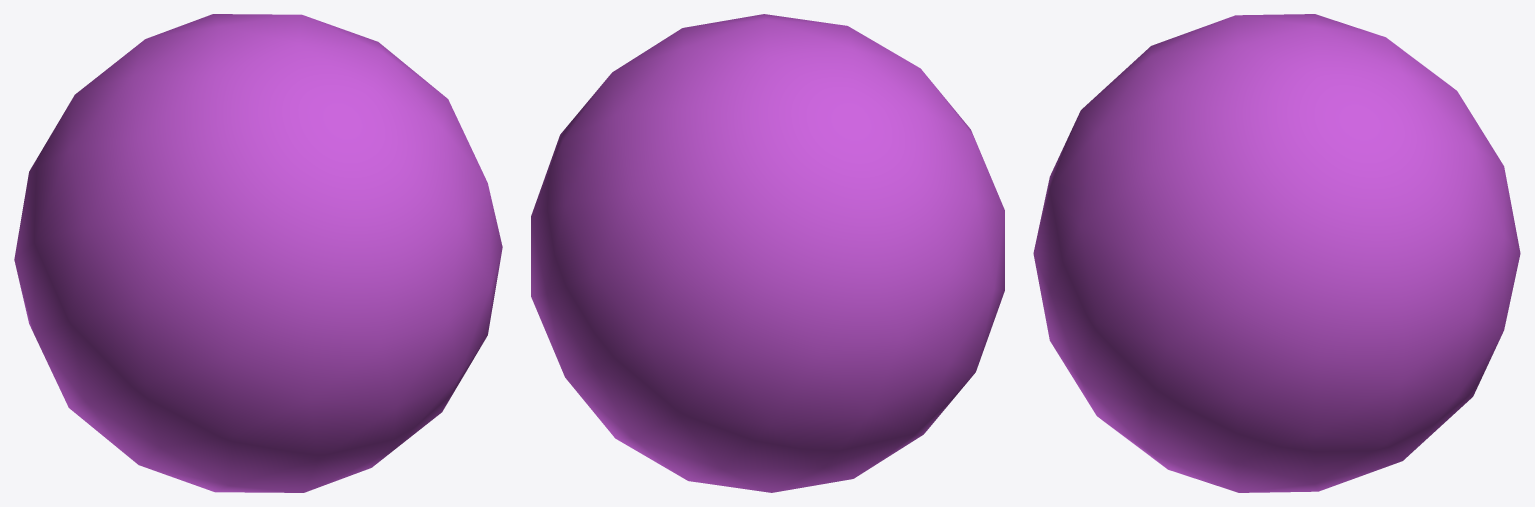
3 views of the same model, side by side, from view 1: azimuth 30°, elevation 25°; view 2: azimuth 150°, elevation 25°; view 3: azimuth 270°, elevation 25° (orthographic).
Visible parts, largest first — view 1: geo_sphere.3db; view 2: geo_sphere.3db; view 3: geo_sphere.3db.
Boxes of the visible parts, x1=… form: geo_sphere.3db: x1=14, y1=14, x2=502, y2=492; geo_sphere.3db: x1=531, y1=14, x2=1004, y2=492; geo_sphere.3db: x1=1033, y1=14, x2=1520, y2=492.
Size of the model in its own units: 0.0197 by 0.0197 by 0.02.
